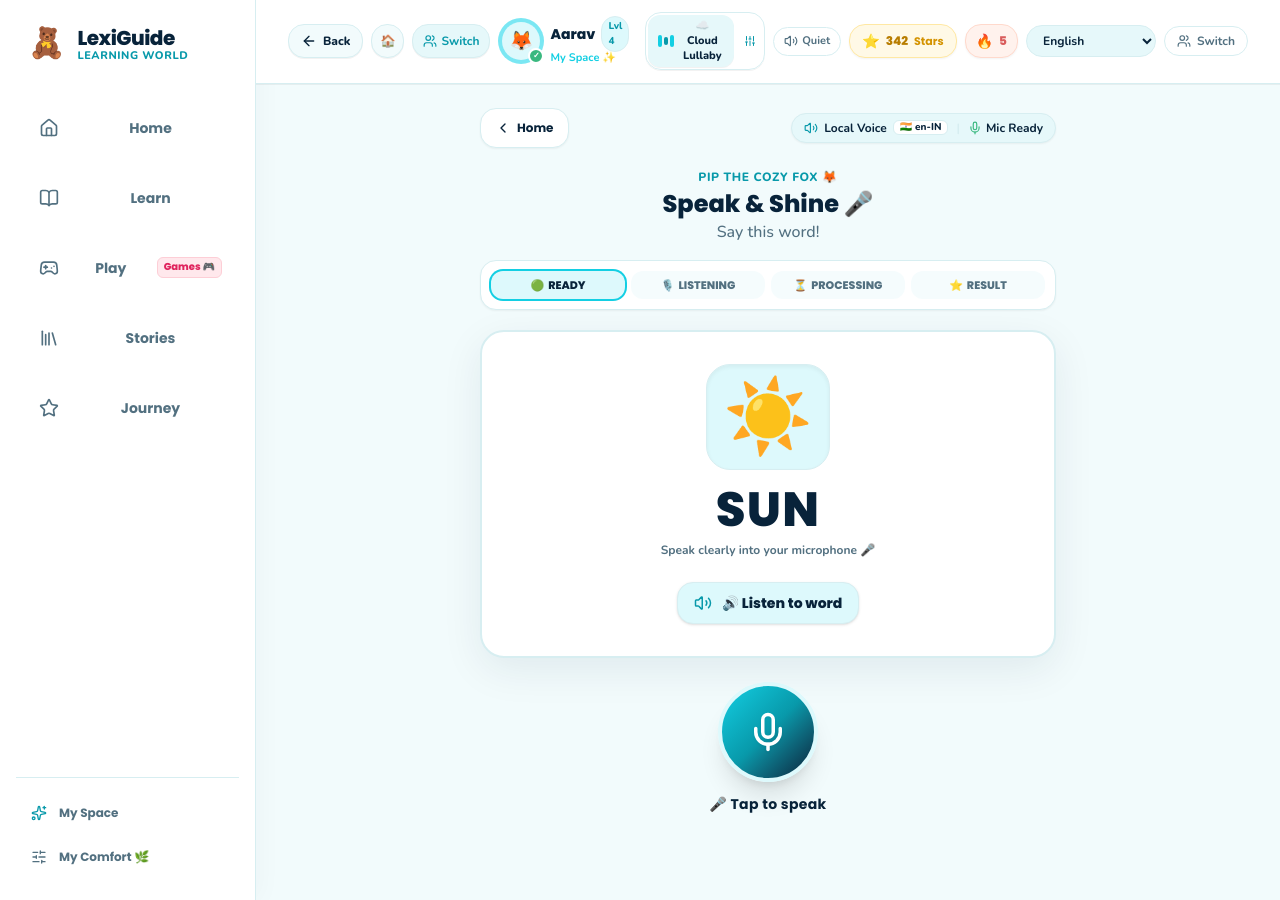
Test case: Step 8: Real AI Speech, Reading & Learning Analysis Test Suite › 17. SpeakPlay displays honest word-matching note without claiming phoneme acoustic analysis
The width and height of the screenshot is (1280, 900).
Click the button named "start recording" at coordinates (768, 732), box [718,682,818,782]
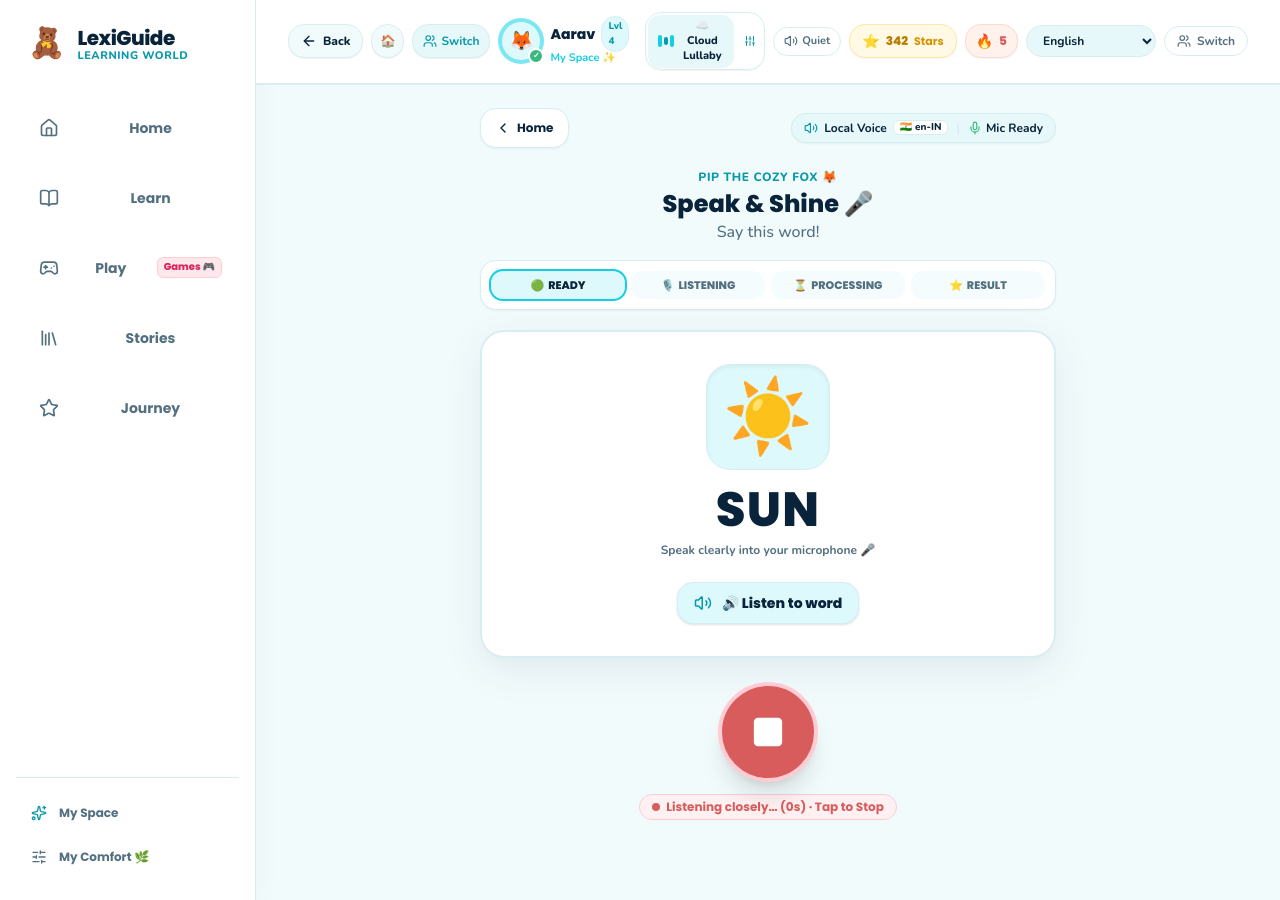
Click the button named "stop recording" at coordinates (768, 732), box [718,682,818,782]
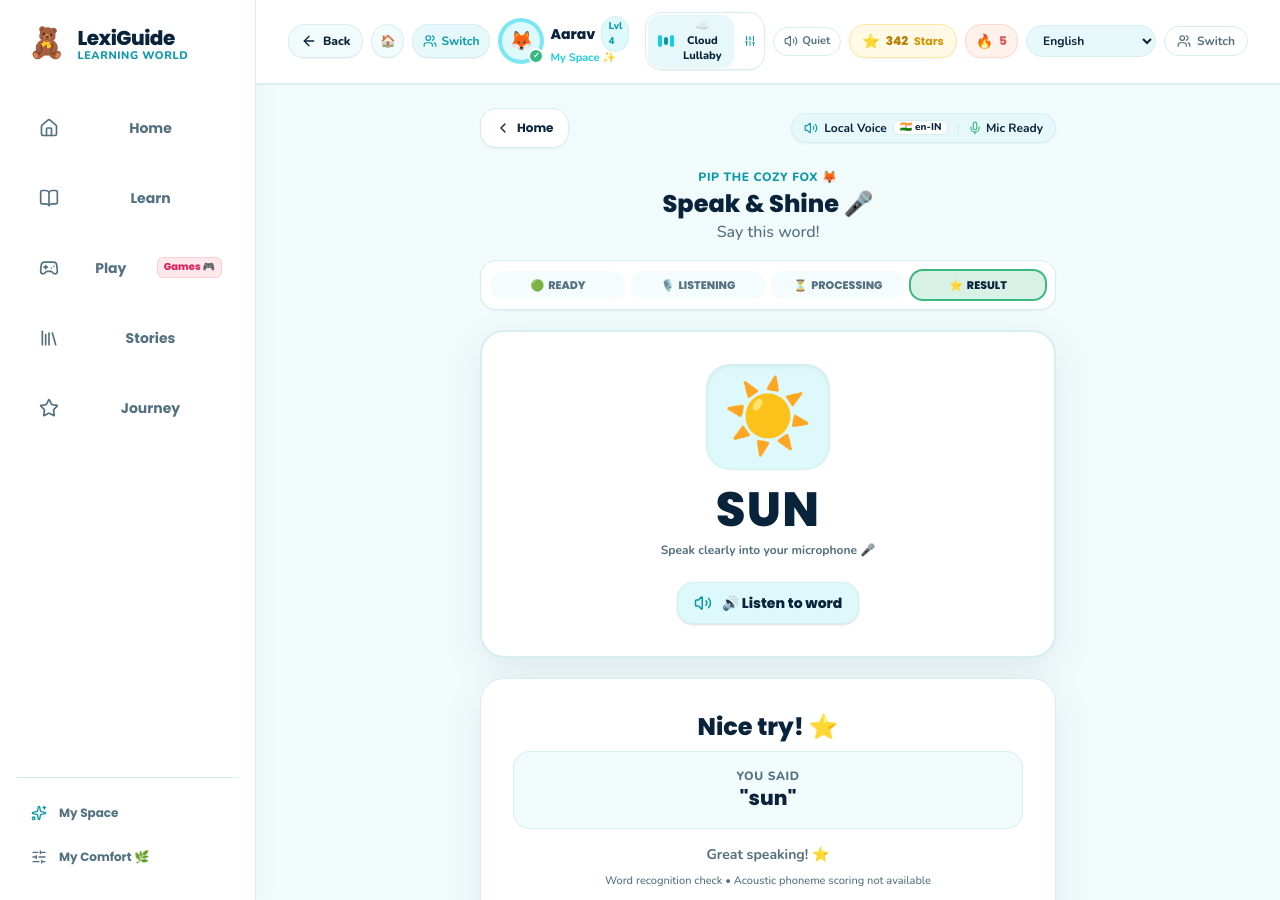
Expected: the text "Acoustic phoneme scoring not available" is shown, [605,873,931,888]
